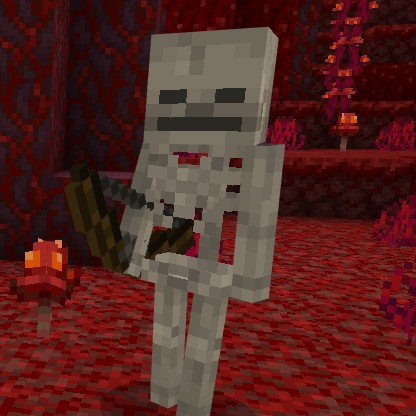skeleton: (136, 27, 285, 313)
